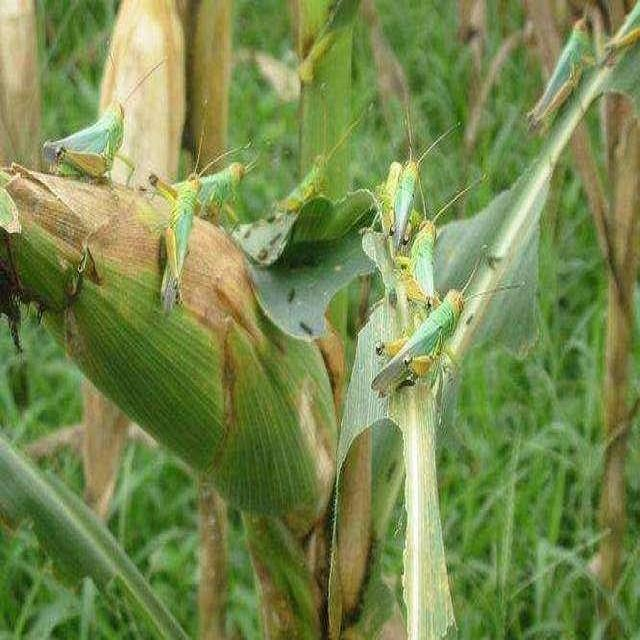ZhaMeng: (363, 279, 481, 408), (40, 80, 138, 198), (156, 142, 208, 319)
